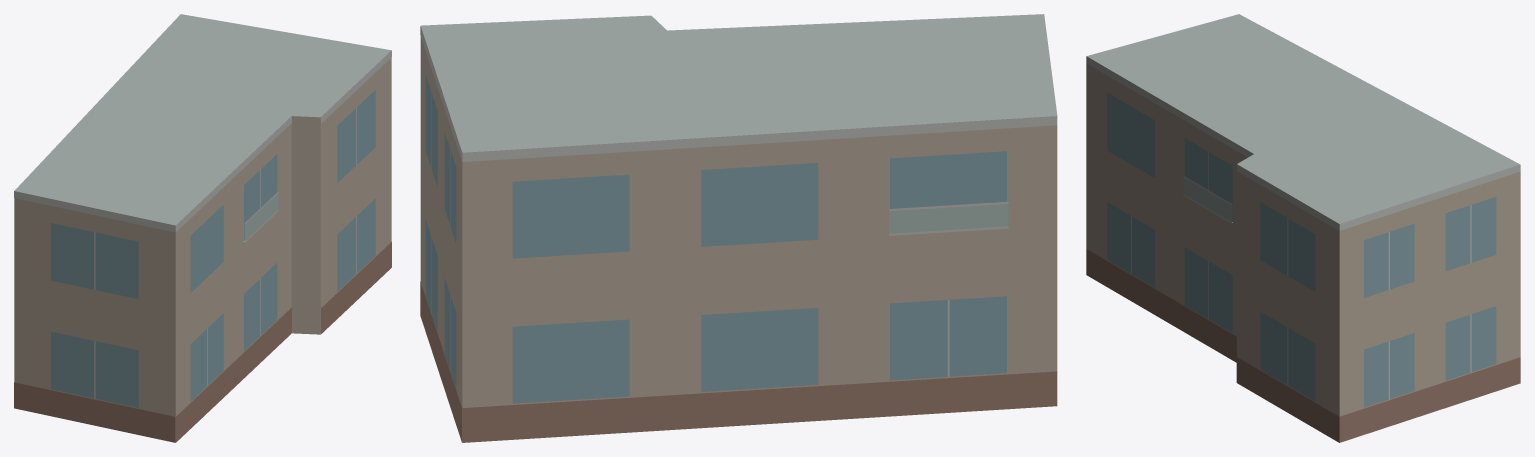
Rendered from survey-upis-33022997.glb.
3 renders of one model, left to right at view 1: azimuth 30°, elevation 25°; view 2: azimuth 150°, elevation 25°; view 3: azimuth 270°, elevation 25°, orthographic. The views are drawn at different scales.
Parts seen in each view (by area): view 1: survey-upis-33022997.tmp; view 2: survey-upis-33022997.tmp; view 3: survey-upis-33022997.tmp.
Boxes of the visible parts, x1,y1,x2,y2 form: survey-upis-33022997.tmp: [14, 14, 391, 442]; survey-upis-33022997.tmp: [420, 14, 1057, 442]; survey-upis-33022997.tmp: [1086, 14, 1520, 442].
Bounding box in the file's own units: 15.65 × 7.6 × 13.67.
